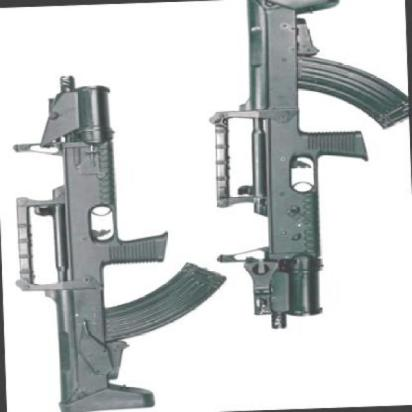Gun: (11, 77, 216, 412), (212, 0, 412, 333)
